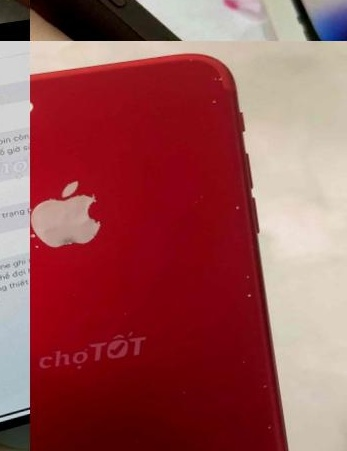scratch: (30, 166, 106, 256), (187, 45, 242, 109), (245, 374, 288, 451), (230, 259, 259, 305), (214, 195, 246, 220), (171, 377, 195, 398), (232, 350, 252, 369), (131, 430, 146, 443), (30, 436, 35, 451)
